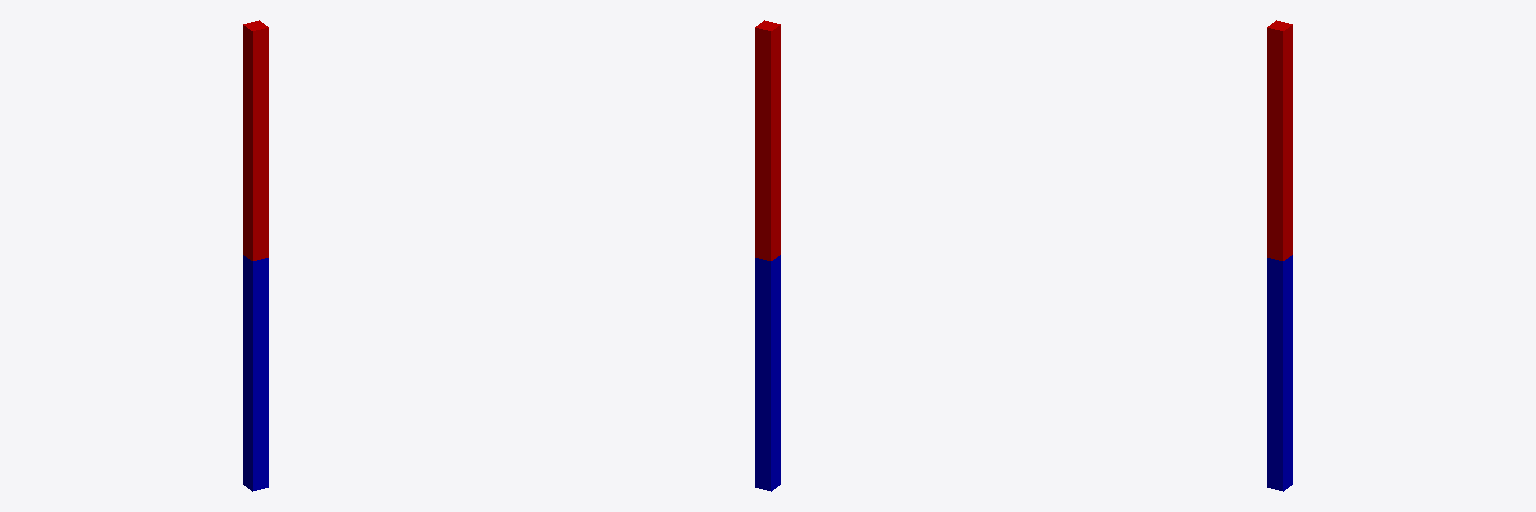
robot.urdf — acrobot:
<?xml version="1.0" encoding="utf-8"?>
<!-- =================================================================================== -->
<!-- |    This document was autogenerated by xacro from models/acrobot_simple.xacro    | -->
<!-- |    EDITING THIS FILE BY HAND IS NOT RECOMMENDED                                 | -->
<!-- =================================================================================== -->
<robot name="acrobot" xmlns:xacro="http://www.ros.org/wiki/xacro">
  <link name="base_link"/>
  <link name="leg1">
    <inertial>
      <mass value="3.2"/>
      <origin rpy="0 0 0" xyz="0.2 0 0"/>
      <inertia ixx="0.00048" ixy="0.0" ixz="0.0" iyy="0.0429066666667" iyz="0.0" izz="0.0429066666667"/>
    </inertial>
    <visual name="visual">
      <origin rpy="0 0 0" xyz="0.2 0 0"/>
      <geometry>
        <box size="0.4 0.03 0.03"/>
      </geometry>
      <material name="blue">
        <color rgba="0 0 0.8 1"/>
      </material>
    </visual>
  </link>
  <link name="leg2">
    <inertial>
      <mass value="3.2"/>
      <origin rpy="0 0 0" xyz="-0.2 0 0"/>
      <inertia ixx="0.00048" ixy="0.0" ixz="0.0" iyy="0.0429066666667" iyz="0.0" izz="0.0429066666667"/>
    </inertial>
    <visual name="visual">
      <origin rpy="0 0 0" xyz="-0.2 0 0"/>
      <geometry>
        <box size="0.4 0.03 0.03"/>
      </geometry>
      <material name="red">
        <color rgba="0.8 0 0 1"/>
      </material>
    </visual>
  </link>
  <joint name="base_link" type="fixed">
    <parent link="base_link"/>
    <child link="leg1"/>
    <origin rpy="0 1.5707964 0" xyz="0 0 0.354"/>
  </joint>
  <joint name="joint" type="revolute">
    <parent link="leg1"/>
    <child link="leg2"/>
    <origin rpy="0 0 0" xyz="0 0 0"/>
    <axis xyz="0 1 0"/>
    <dynamics damping="0.02" friction="0.05"/>
    <limit effort="0.22" lower="-3.078760944" upper="3.078760944" velocity="1.8"/>
  </joint>
</robot>

--- What the picture shows (computed from the rendered views, not written in the file) ---
The picture shows the robot from 3 angles, left to right: view 1: azimuth 30°, elevation 25°; view 2: azimuth 150°, elevation 25°; view 3: azimuth 330°, elevation 25°; orthographic projection.
Robot: acrobot — 3 links, 2 joints (1 revolute, 1 fixed); root link base_link; default pose: every joint at zero.
Visible links, largest first — view 1: leg2, leg1; view 2: leg2, leg1; view 3: leg2, leg1.
Link boxes in pixels (x1,y1,x2,y2): leg2: (243,20,268,260); leg1: (243,255,268,491); leg2: (755,20,780,260); leg1: (755,255,780,491); leg2: (1267,20,1292,260); leg1: (1267,255,1292,491).
Bounding box of the posed robot: 0.03 × 0.03 × 0.8 m (x, y, z).
Geometry: primitives only (box / cylinder / sphere), no mesh files.